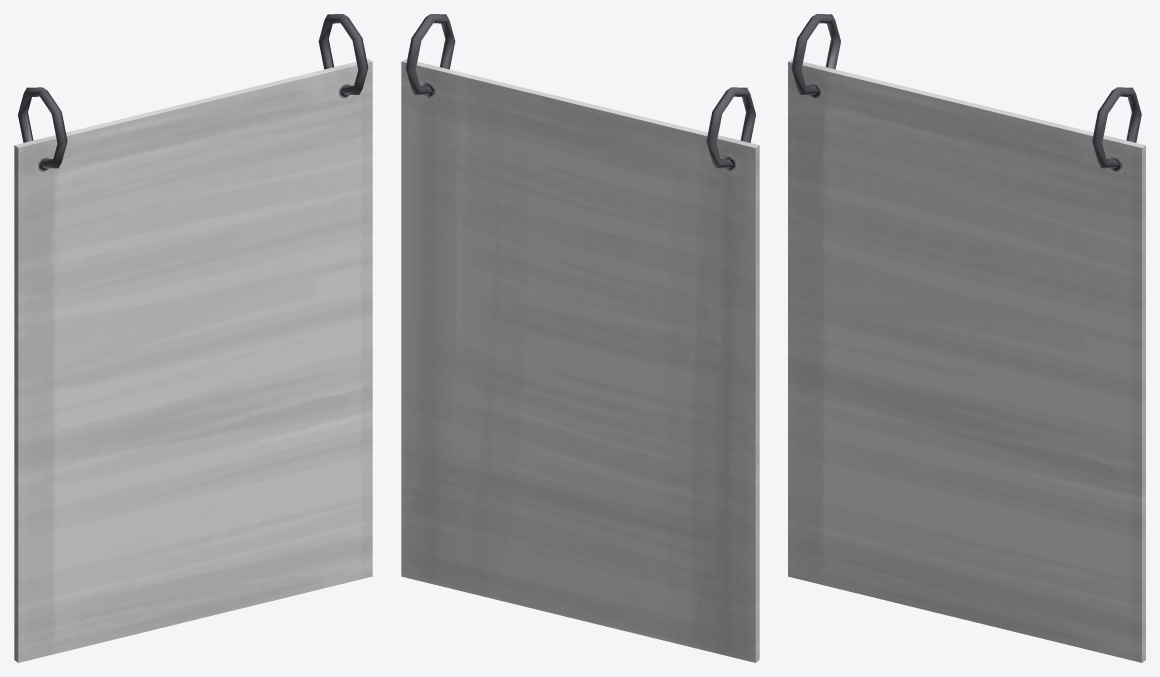
The model's file is SM_ENV_KNFRST_SmallBoard_A.FBX.
The picture shows the model from 3 angles, left to right: view 1: azimuth 30°, elevation 25°; view 2: azimuth 150°, elevation 25°; view 3: azimuth 330°, elevation 25°; orthographic projection.
Visible parts, largest first — view 1: SM_ENV_KNFRST_SmallBoard_A; view 2: SM_ENV_KNFRST_SmallBoard_A; view 3: SM_ENV_KNFRST_SmallBoard_A.
Part boxes in pixels (x1,y1,x2,y2): SM_ENV_KNFRST_SmallBoard_A: (14, 14, 372, 662); SM_ENV_KNFRST_SmallBoard_A: (401, 14, 759, 662); SM_ENV_KNFRST_SmallBoard_A: (788, 14, 1145, 662).
Bounding box in the file's own units: 260 × 398 × 56.99.
